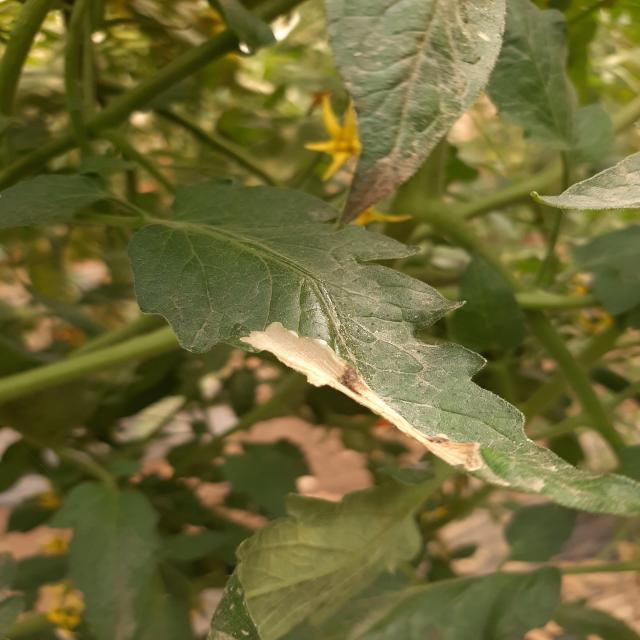Tuta absoluta: (239, 303, 524, 500)
